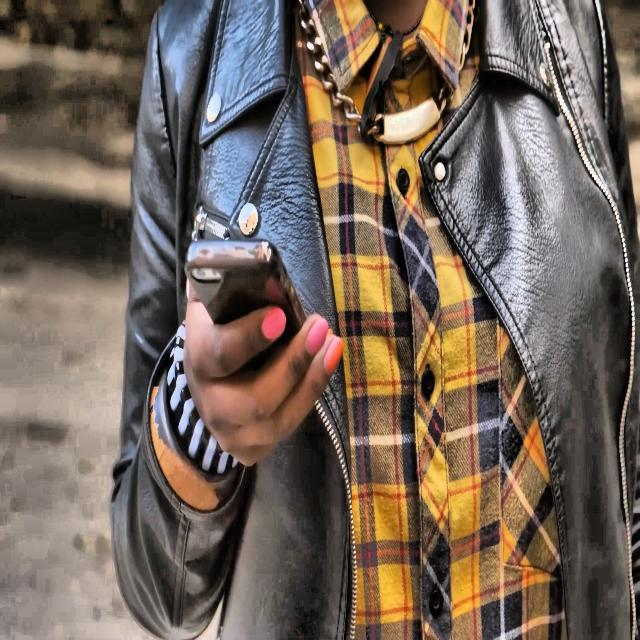Phone: (185, 235, 308, 350)
